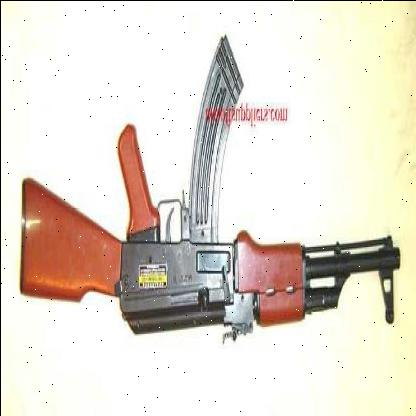rifle: (8, 52, 411, 358)
